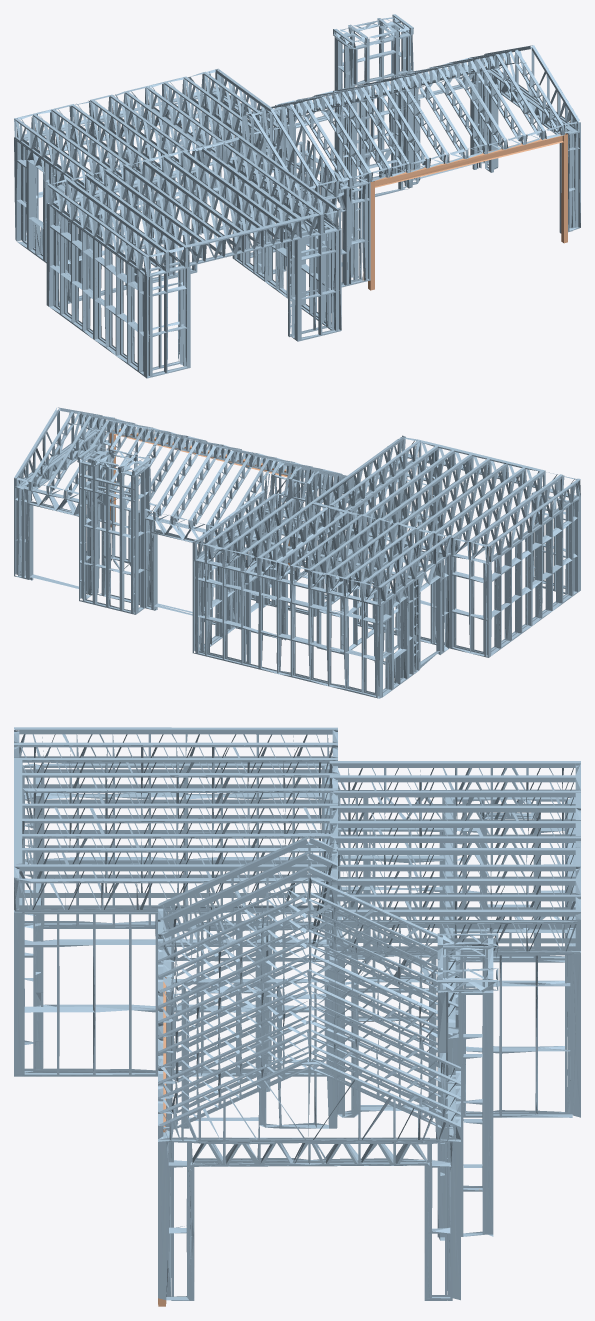
File: mocking-bird-lot-2.glb
3 renders of one model, top to bottom at view 1: azimuth 30°, elevation 25°; view 2: azimuth 150°, elevation 25°; view 3: azimuth 270°, elevation 25°, orthographic. The views are drawn at different scales.
Visible parts, largest first — view 1: part_00, part_02; view 2: part_00, part_02; view 3: part_00.
Boxes of the visible parts, x1,y1,x2,y2 form: part_00: [14, 14, 580, 378]; part_02: [368, 133, 567, 290]; part_00: [14, 407, 580, 698]; part_02: [109, 428, 291, 566]; part_00: [14, 727, 580, 1300].
Size of the model in its own units: 15.11 by 5.07 by 9.6.
